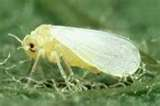whitefly: (8, 23, 141, 82)
